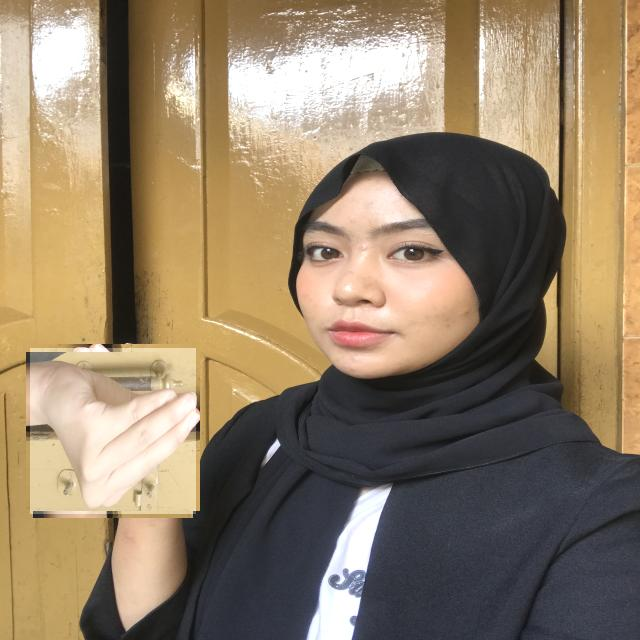kapan: (30, 348, 196, 514)
